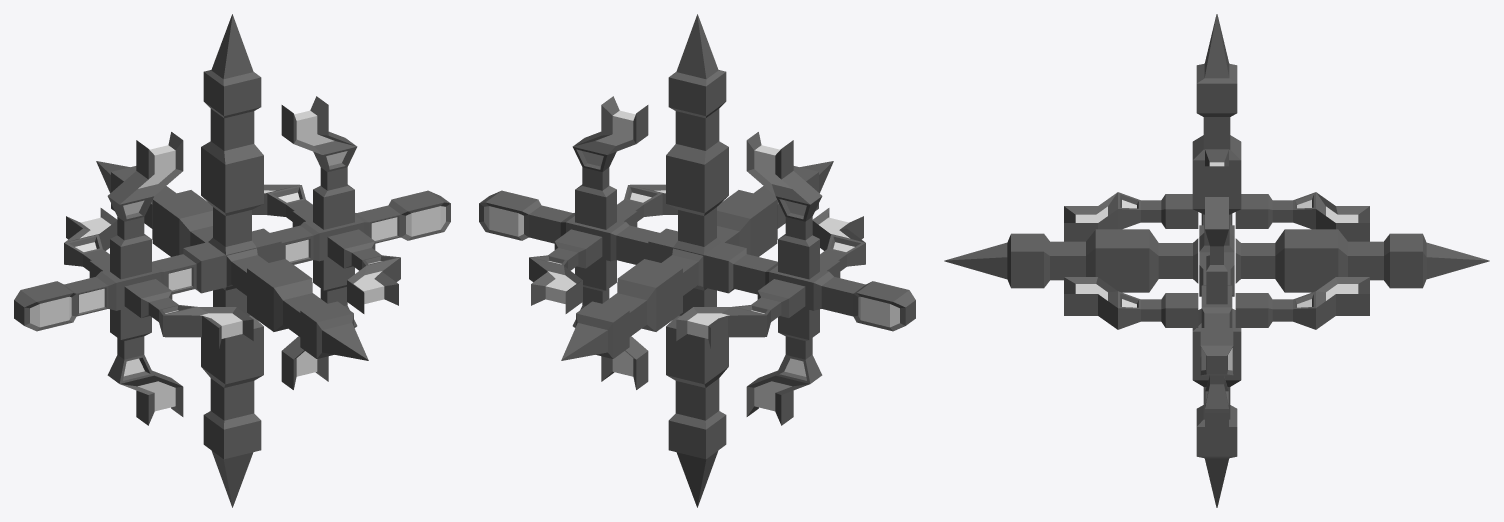
Rendered from serenity.fbx.
3 views of the same model, side by side, from view 1: azimuth 30°, elevation 25°; view 2: azimuth 150°, elevation 25°; view 3: azimuth 270°, elevation 25° (orthographic).
Visible parts, largest first — view 1: Cube.001, Cube; view 2: Cube.001, Cube; view 3: Cube, Cube.001.
Boxes of the visible parts, box(x1,y1,x2,y2) form: Cube.001: box(14, 14, 450, 507); Cube: box(64, 161, 400, 360); Cube.001: box(479, 14, 915, 507); Cube: box(529, 161, 865, 360); Cube: box(944, 192, 1489, 329); Cube.001: box(1192, 14, 1241, 507).
Bounding box in the file's own units: 2764 × 3057 × 3057.
1 material, 1 textured.
